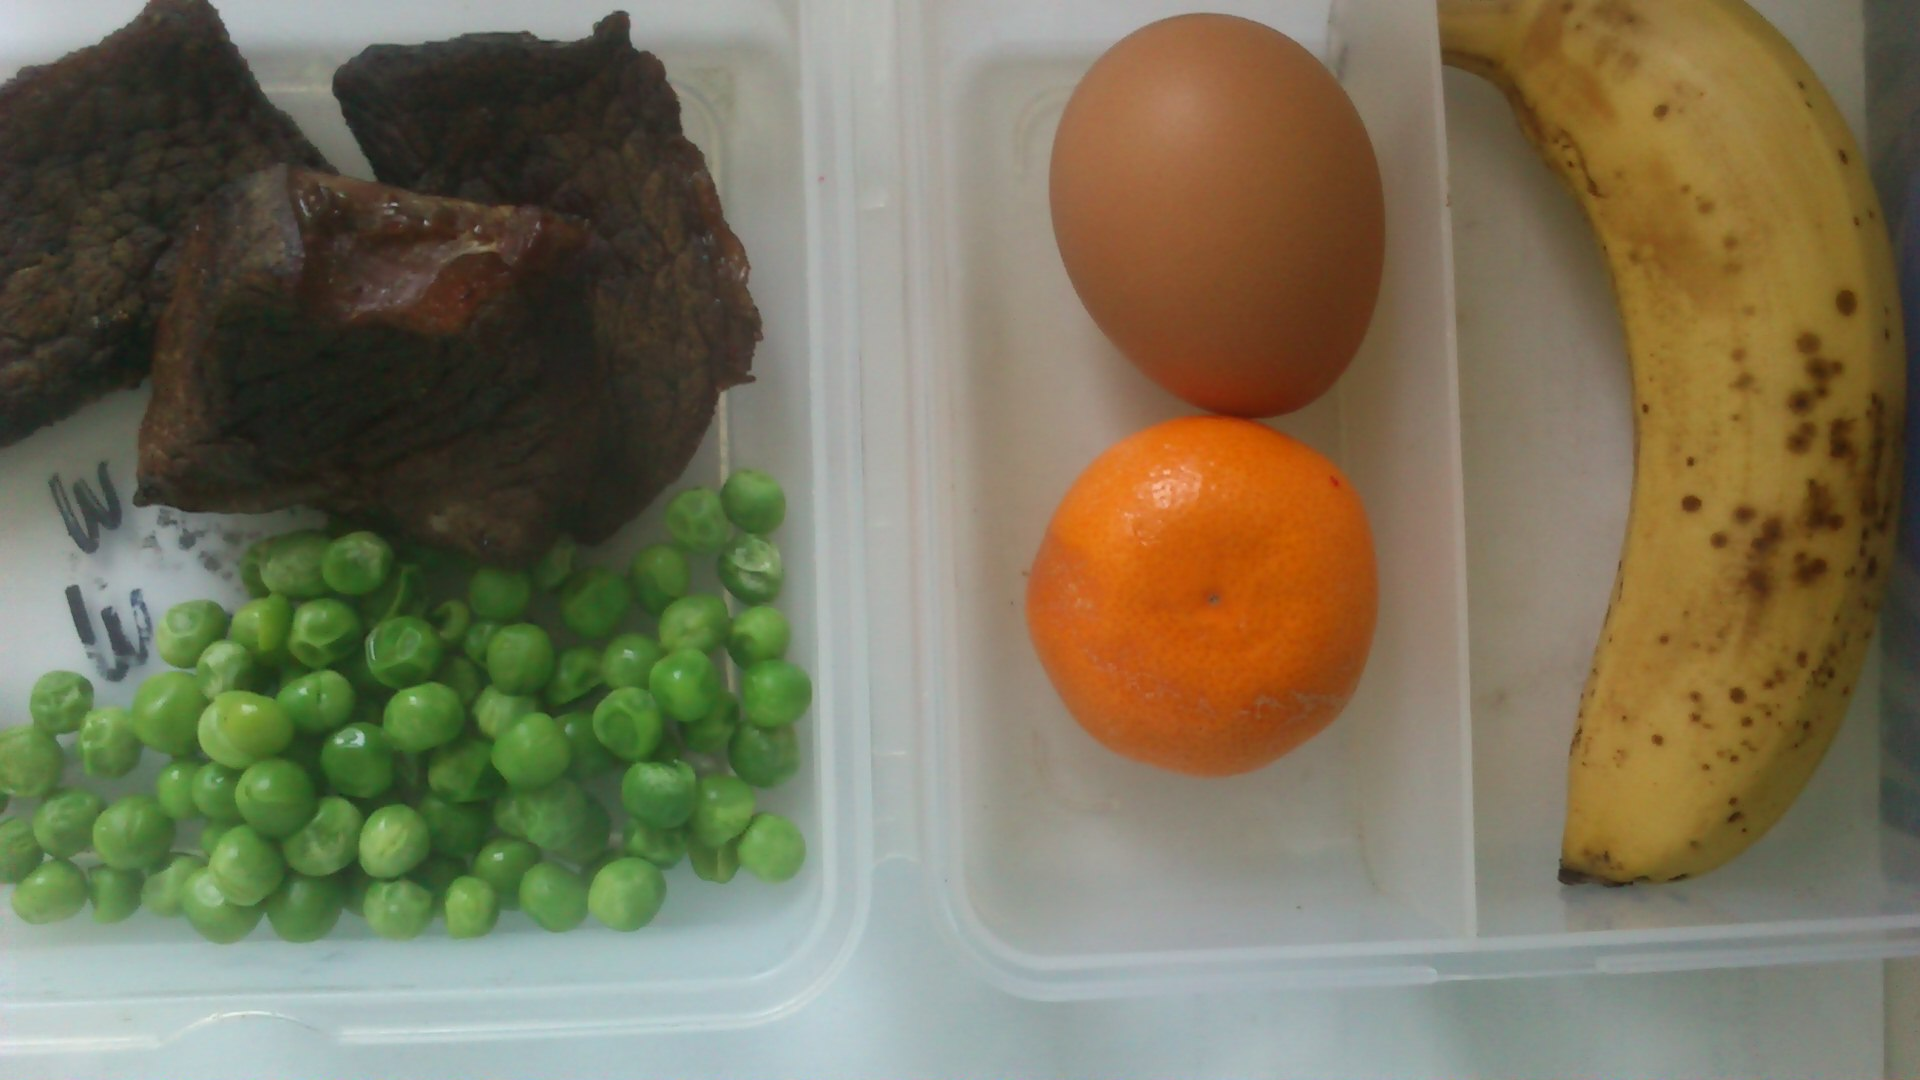boiled peas: (160, 589, 720, 870)
